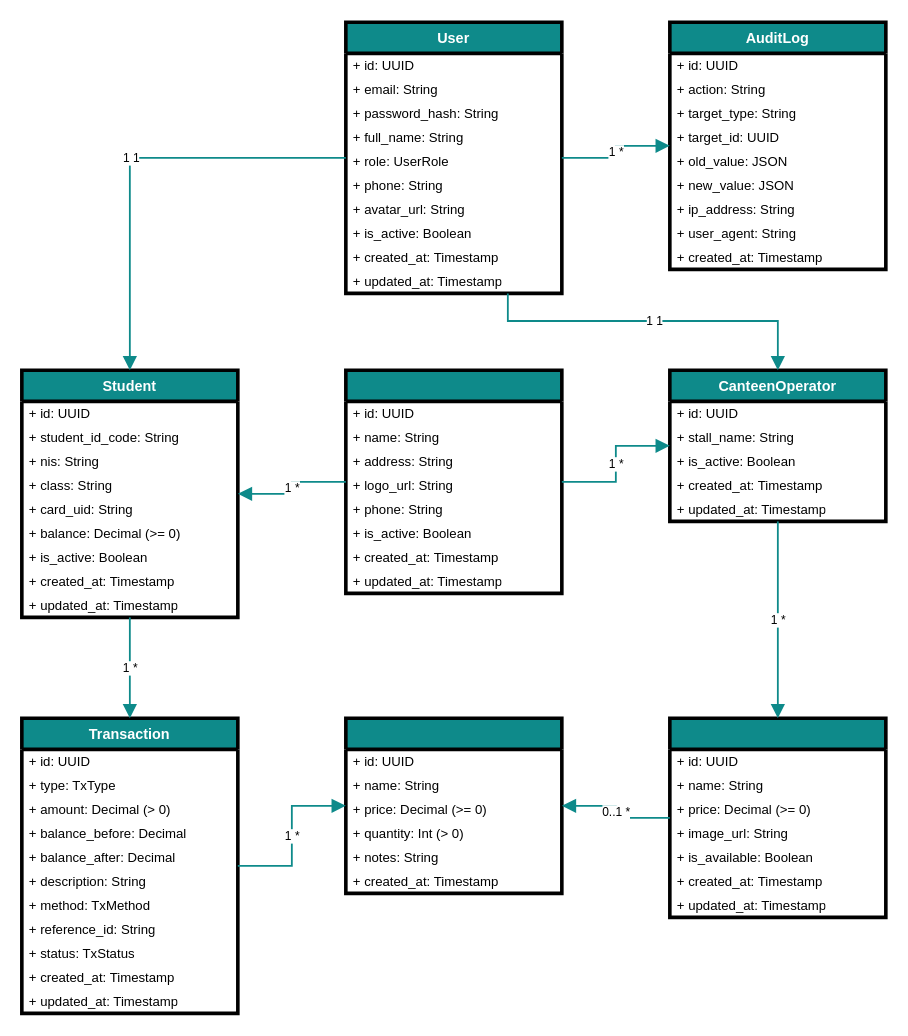
The diagram is 908 pixels wide and 1036 high, and some of its shapes have lost their labels. The shapes that lost their labels are listed below. From the top down, each one's box as (x1, y1, x2, y2) in pixels, then its label:
(343, 368, 563, 595): School
(343, 716, 563, 895): TransactionItem
(667, 716, 887, 919): Product
